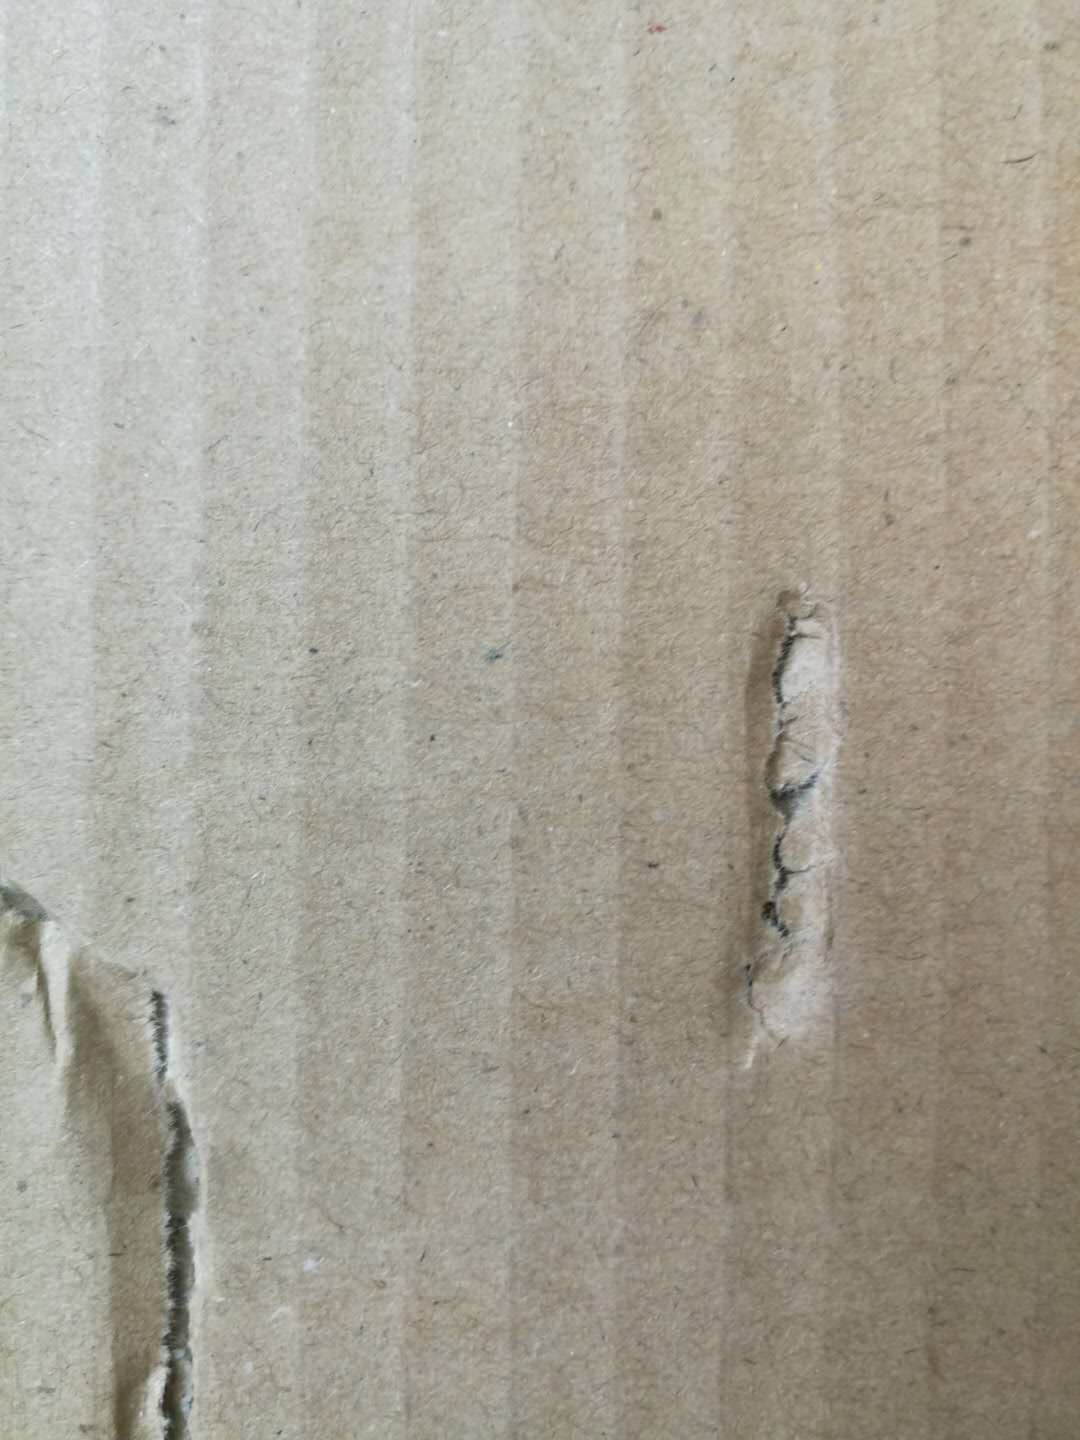defect: (1, 835, 276, 1440), (651, 533, 900, 1092)
